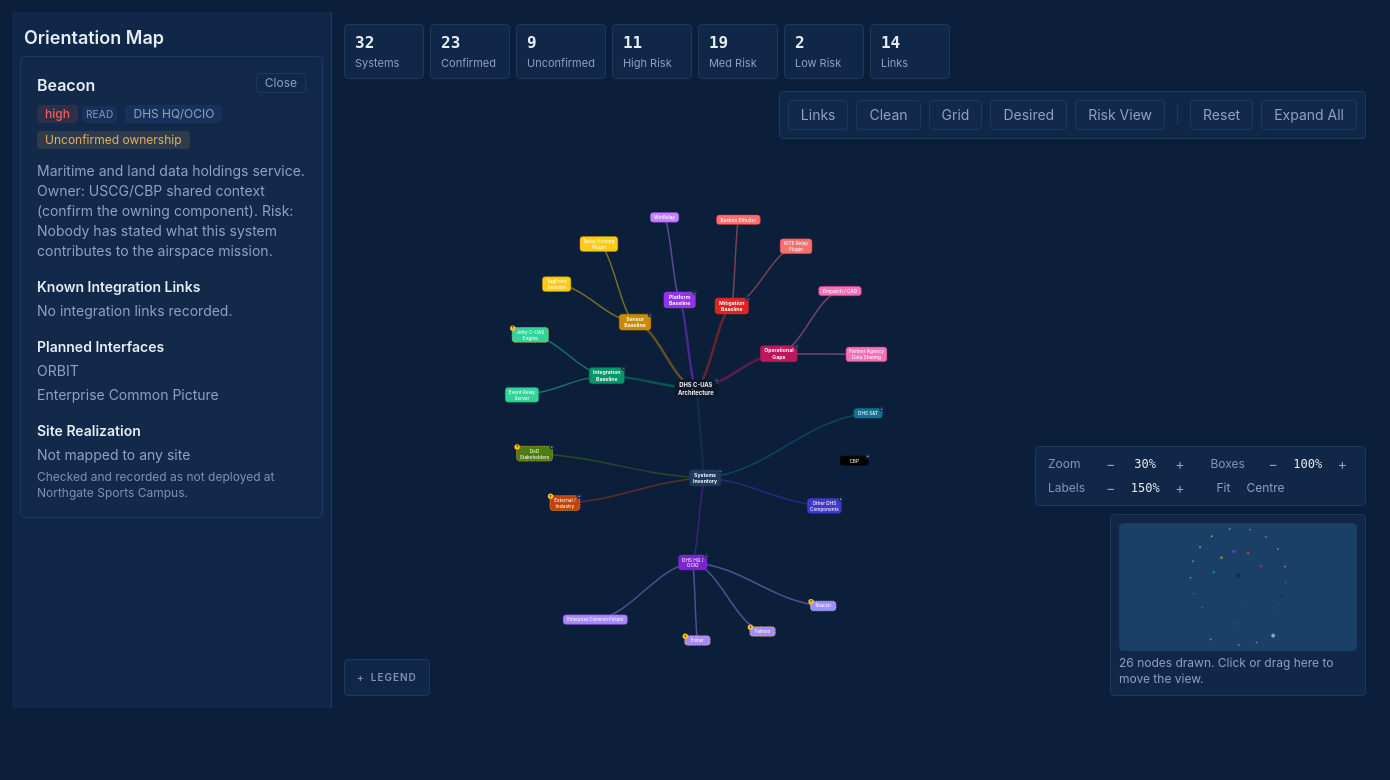
Test case: Orientation Map chrome layout › gives the chrome the whole canvas back when the panel closes
Click the button "Close": (281, 83) [256, 73, 306, 93]
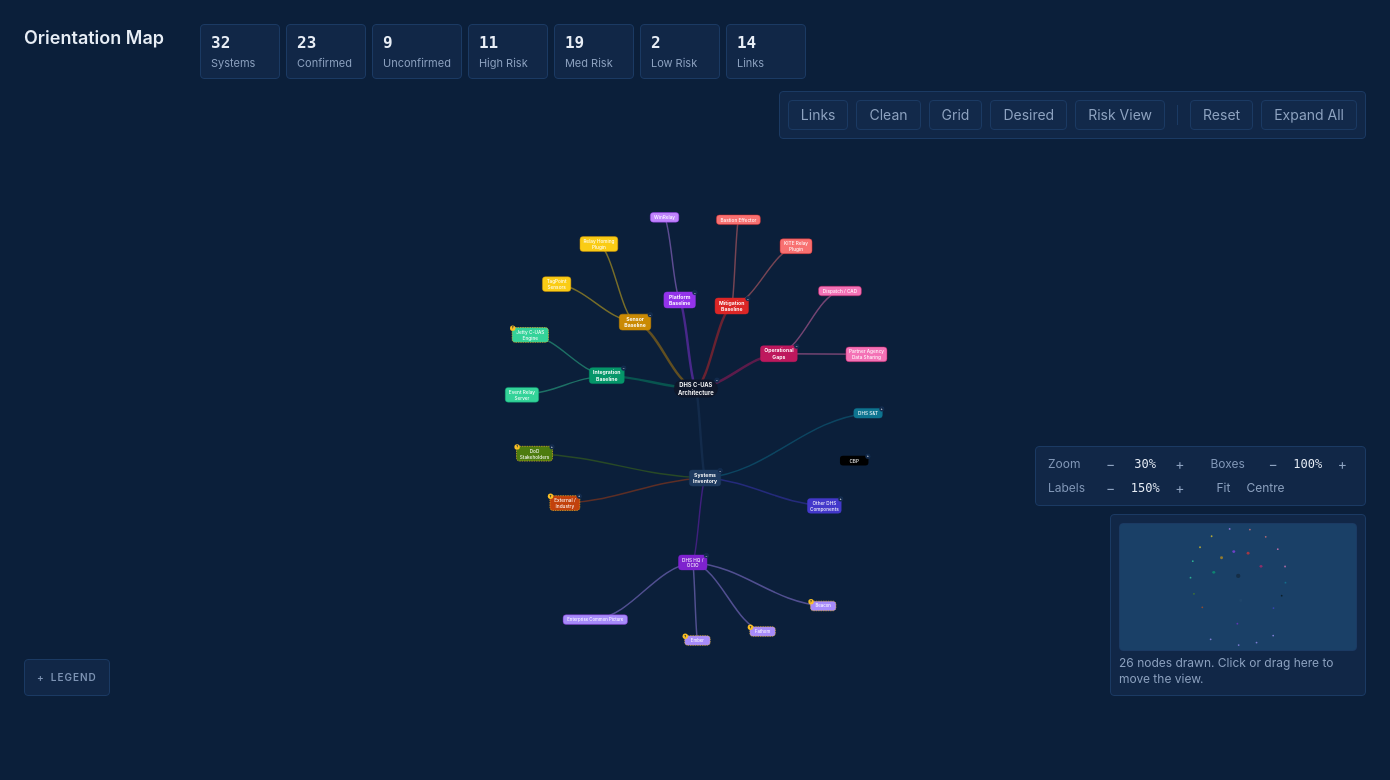
Expected: the element with test id "map-detail" is gone
